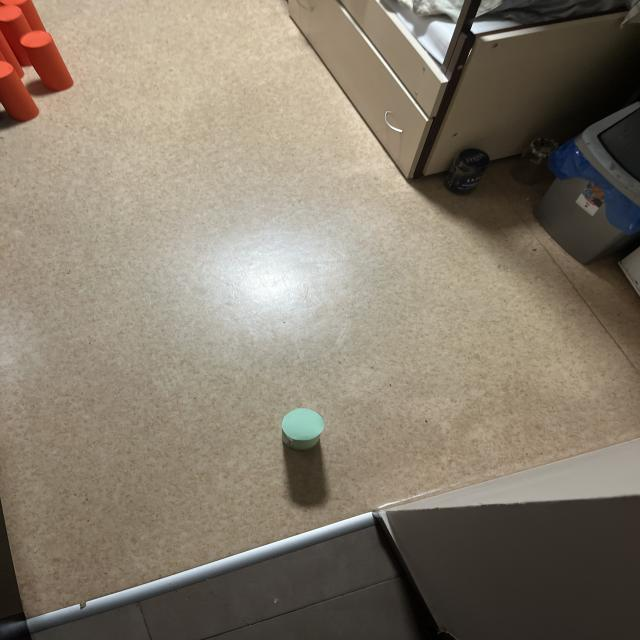meta: (281, 408, 324, 450)
